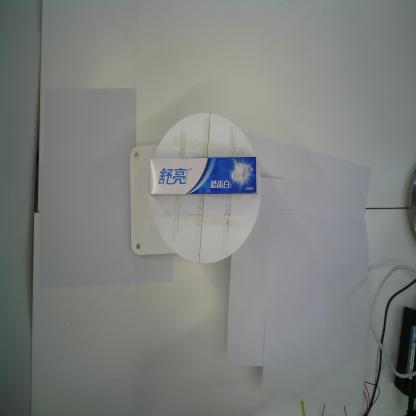Personal Hygiene: (150, 156, 257, 196)
